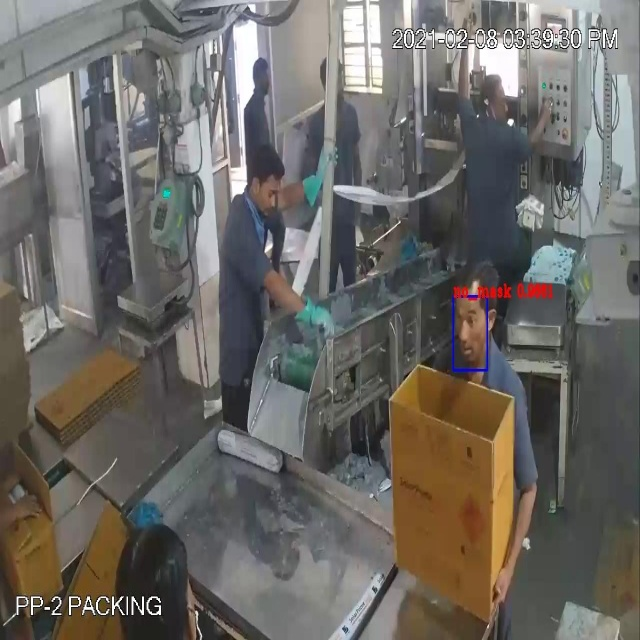Guantes: (244, 248, 348, 354), (263, 134, 347, 219)
Sin_guantes: (488, 442, 544, 625)
